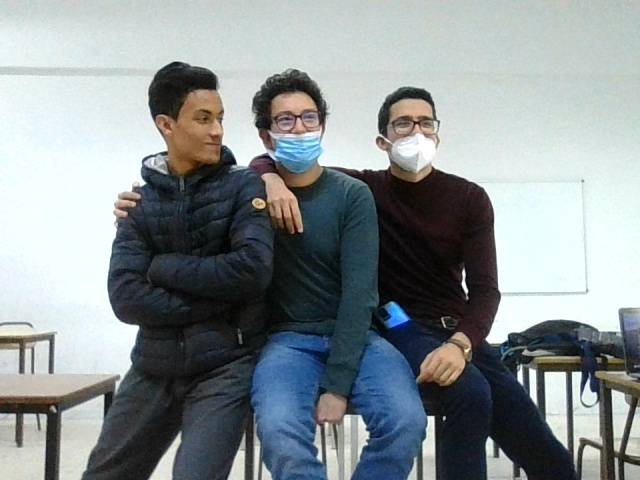mask_weared_incorrect: (362, 82, 461, 201), (248, 67, 346, 182)
without_mask: (132, 67, 232, 177)
